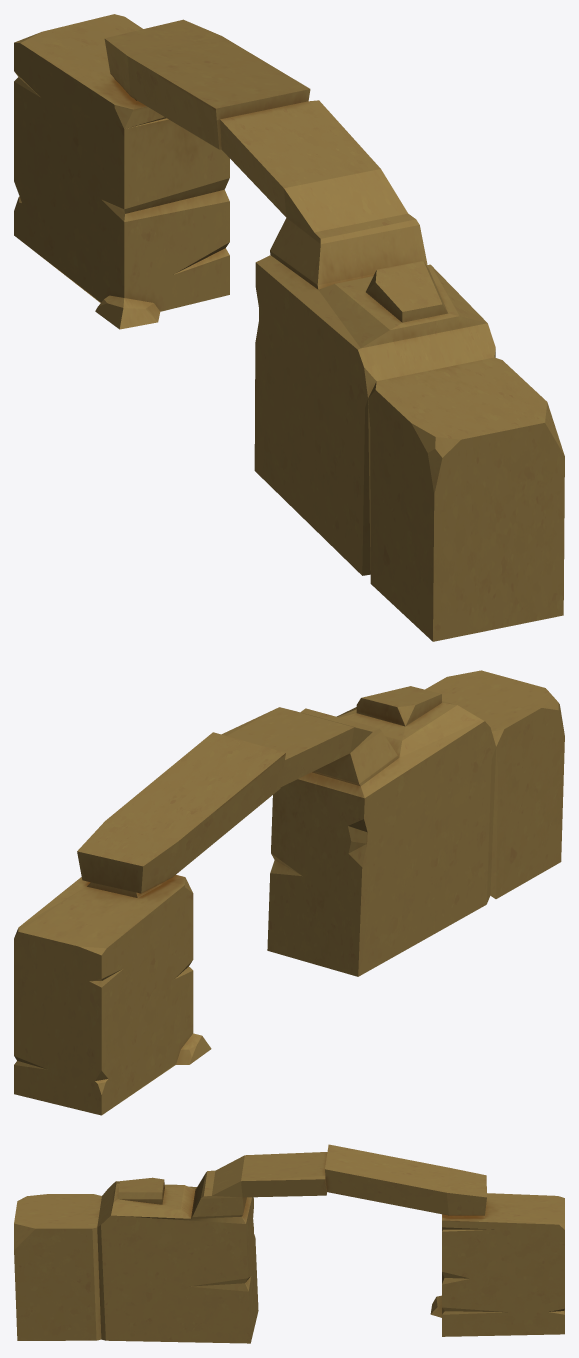
File: Tunisia_Arc.fbx
The picture shows the model from 3 angles, top to bottom: view 1: azimuth 30°, elevation 25°; view 2: azimuth 150°, elevation 25°; view 3: azimuth 270°, elevation 25°; orthographic projection. The views are drawn at different scales.
Parts seen in each view (by area): view 1: Tunisia_Arc; view 2: Tunisia_Arc; view 3: Tunisia_Arc.
Part boxes in pixels (x1,y1,x2,y2): Tunisia_Arc: [14, 14, 564, 641]; Tunisia_Arc: [14, 670, 564, 1115]; Tunisia_Arc: [14, 1144, 564, 1343].
Bounding box in the file's own units: 175 × 306 × 858.
